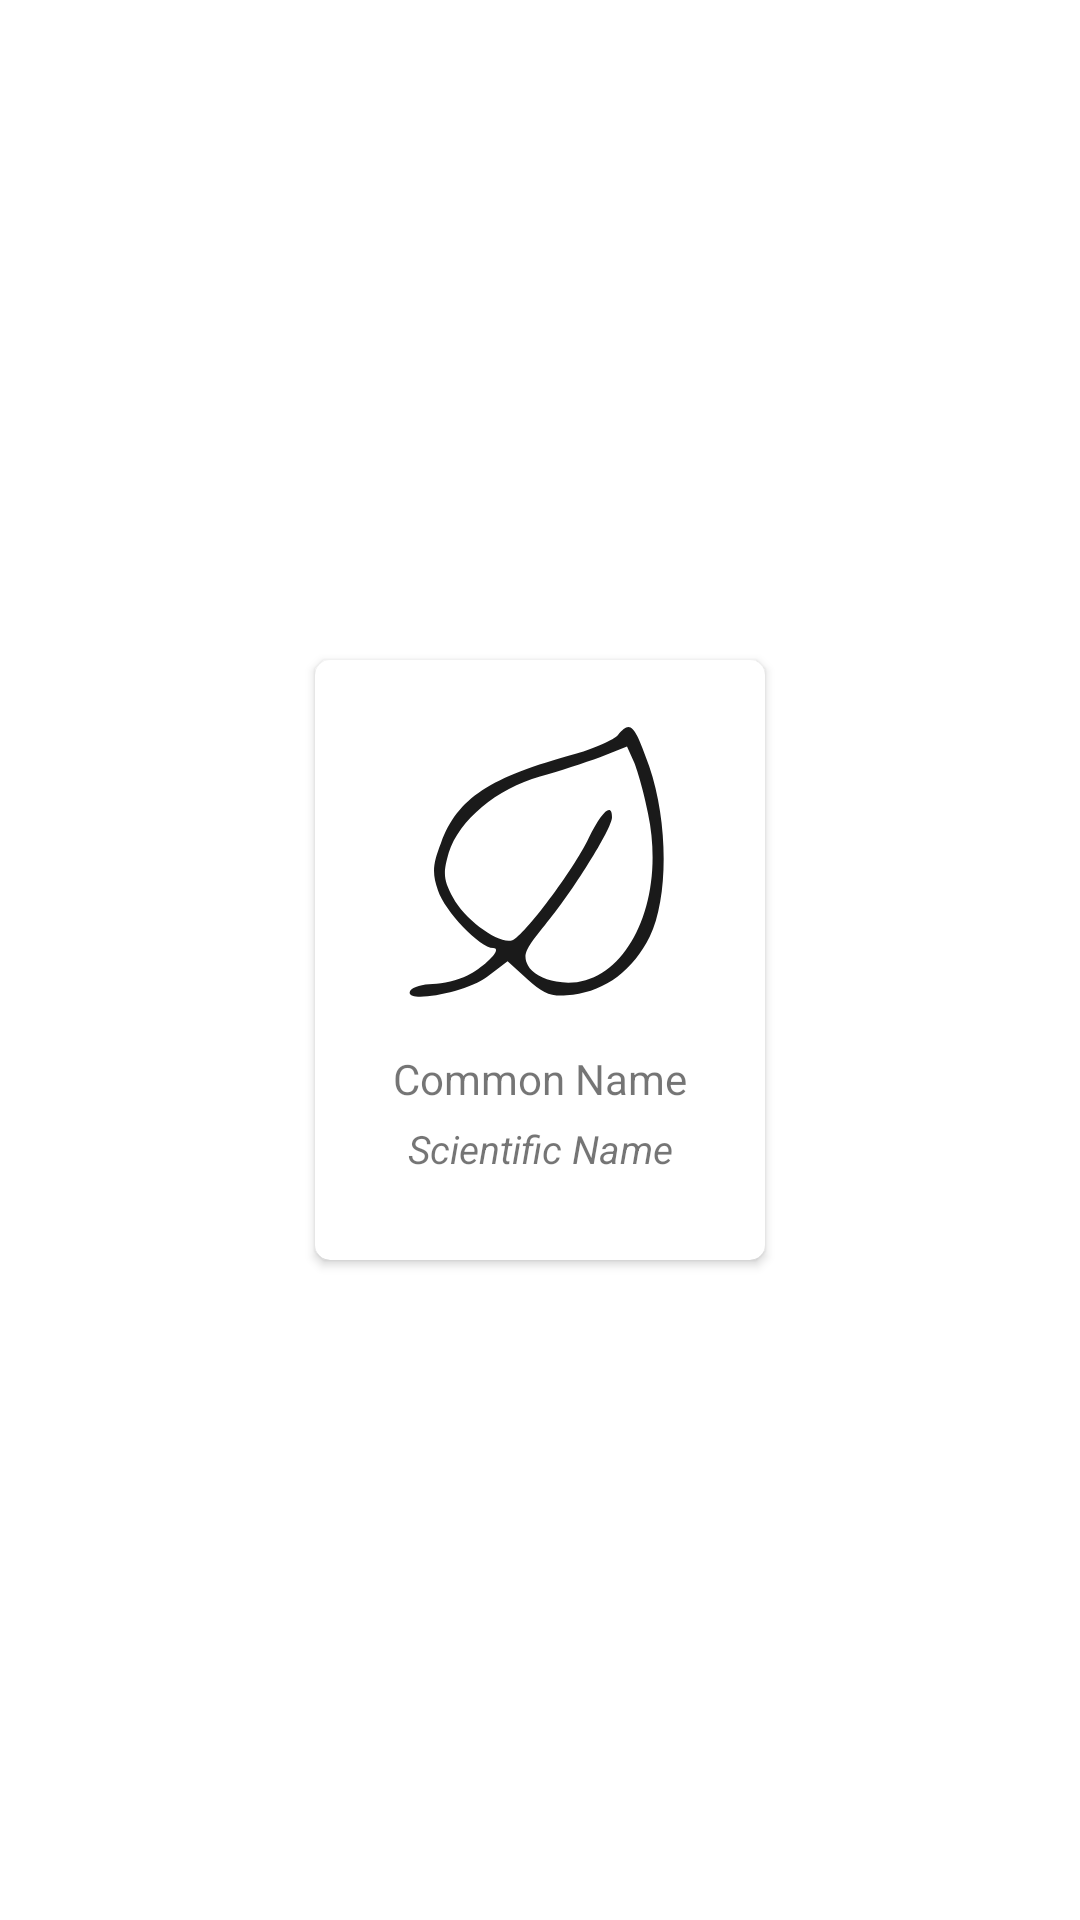

Where to tap for icons on this 1080×1920 app screen, as point (x, y):
plants menu: point (536, 862)
